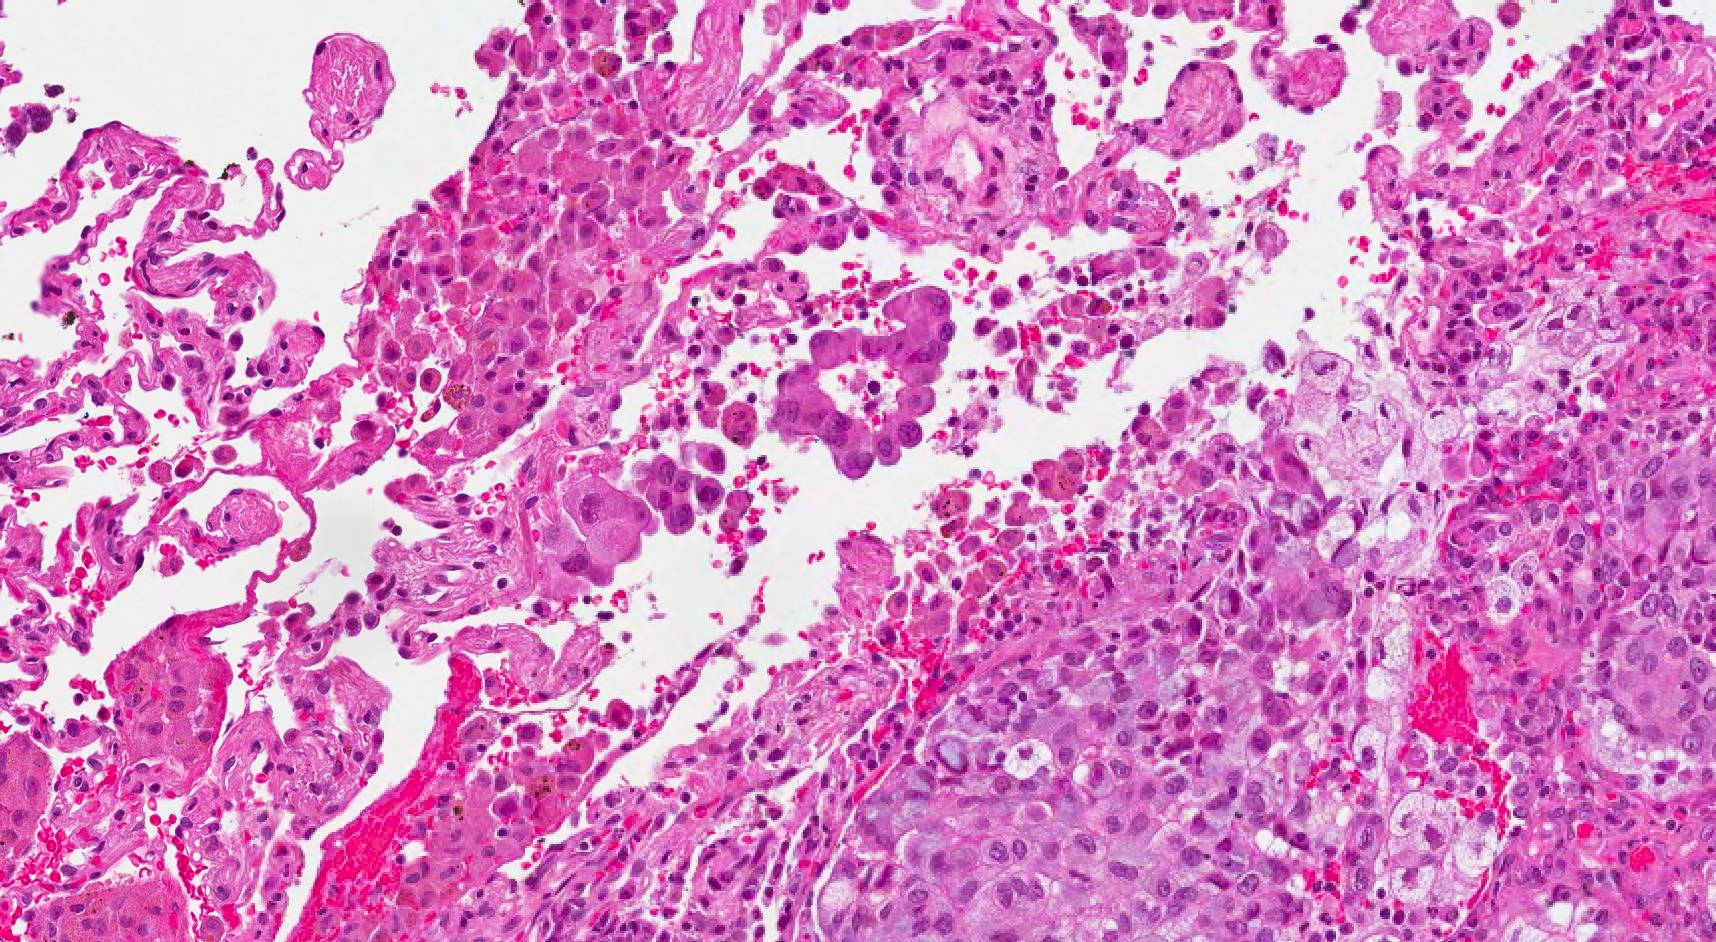stas: (767, 288, 958, 482), (540, 454, 725, 588)
